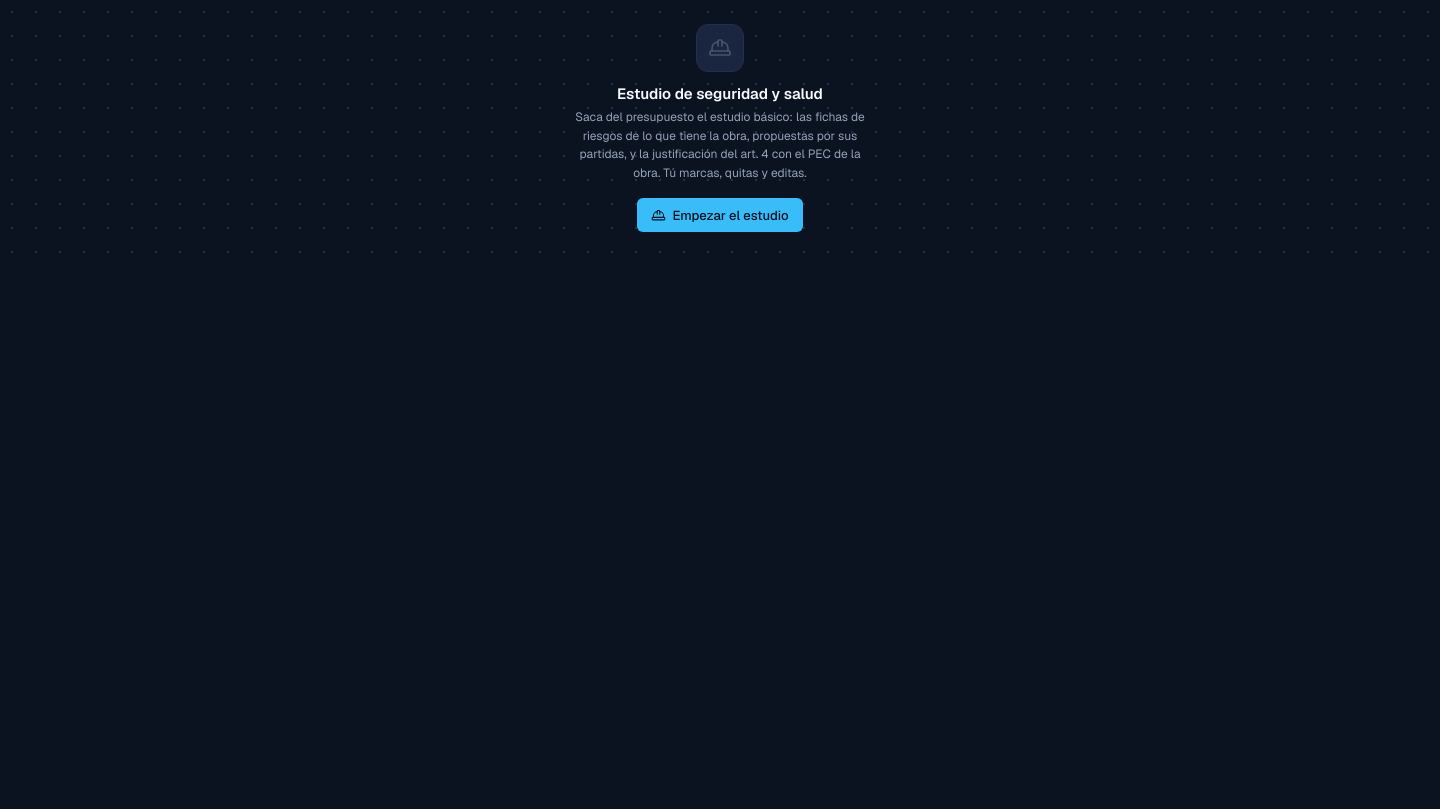
vista Seguridad y salud › empezar: fichas propuestas por las partidas; quitar una y teclear los datos
Click the button "Empezar el estudio": (720, 215) [637,198,803,232]
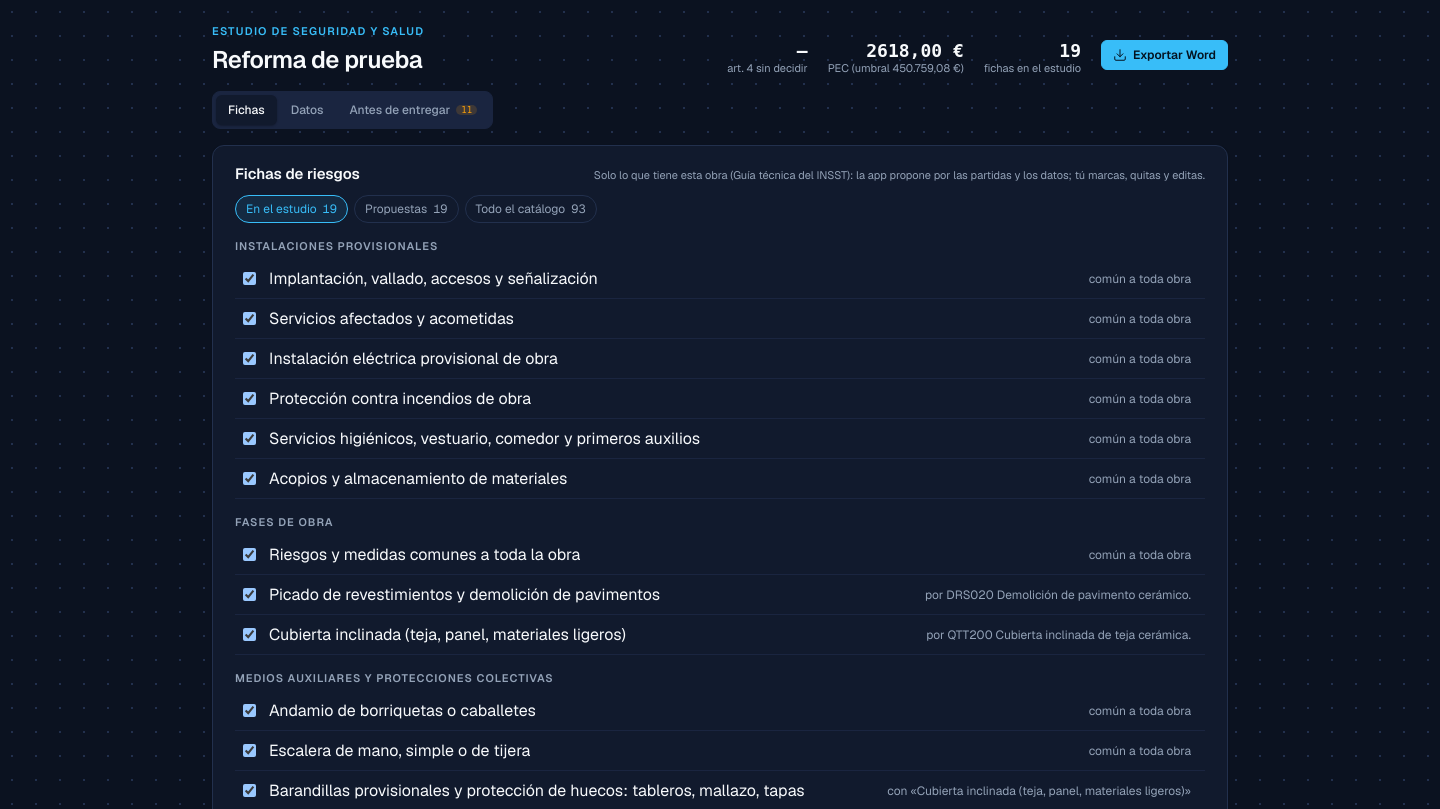
Now the checkbox named "Cubierta inclinada (teja, panel, materiales ligeros) en el e" is checked
Click the checkbox named "Cubierta inclinada (teja, panel, materiales ligeros) en el e": (250, 634) [243,628,256,641]
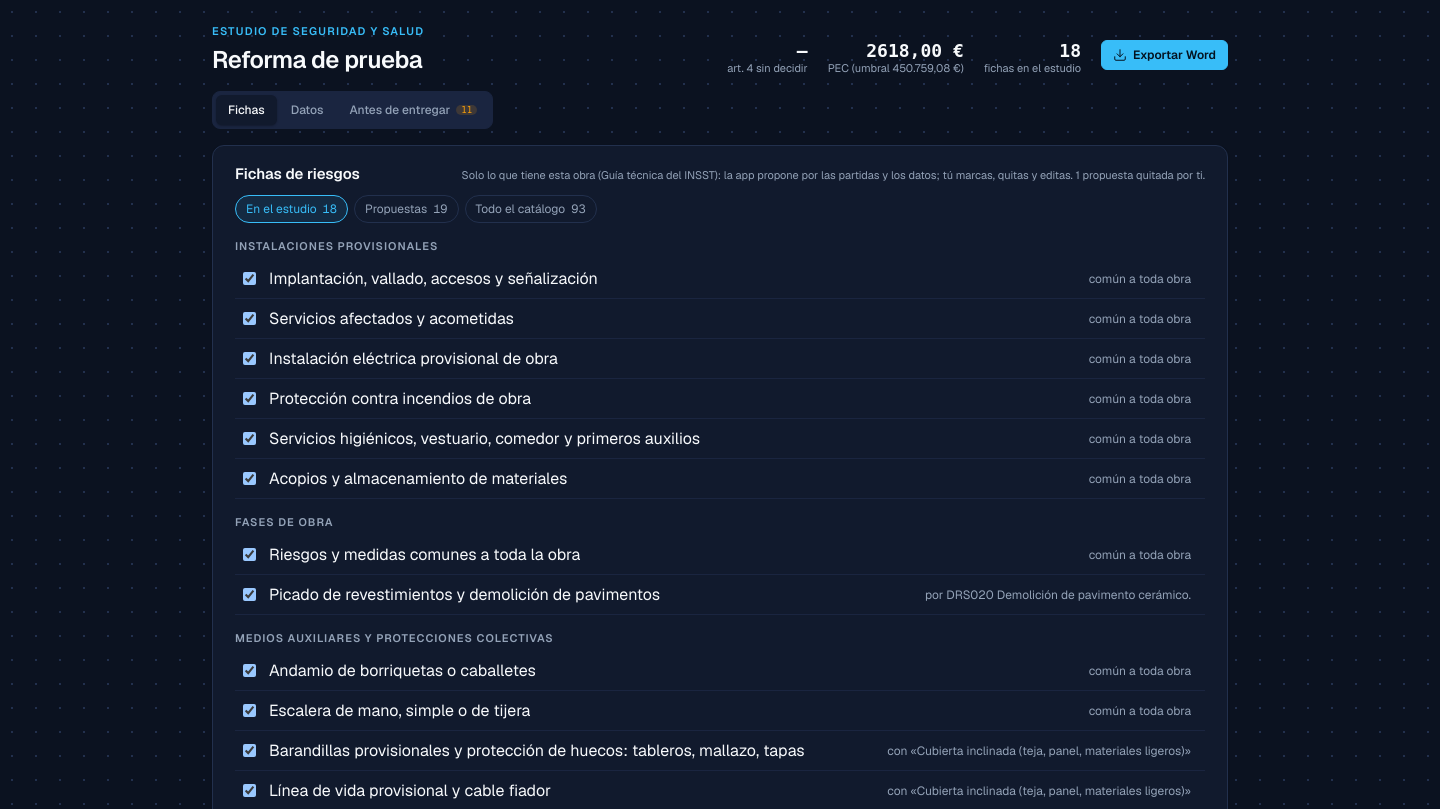
Click the tab "Datos": (307, 110) [279,95,335,125]
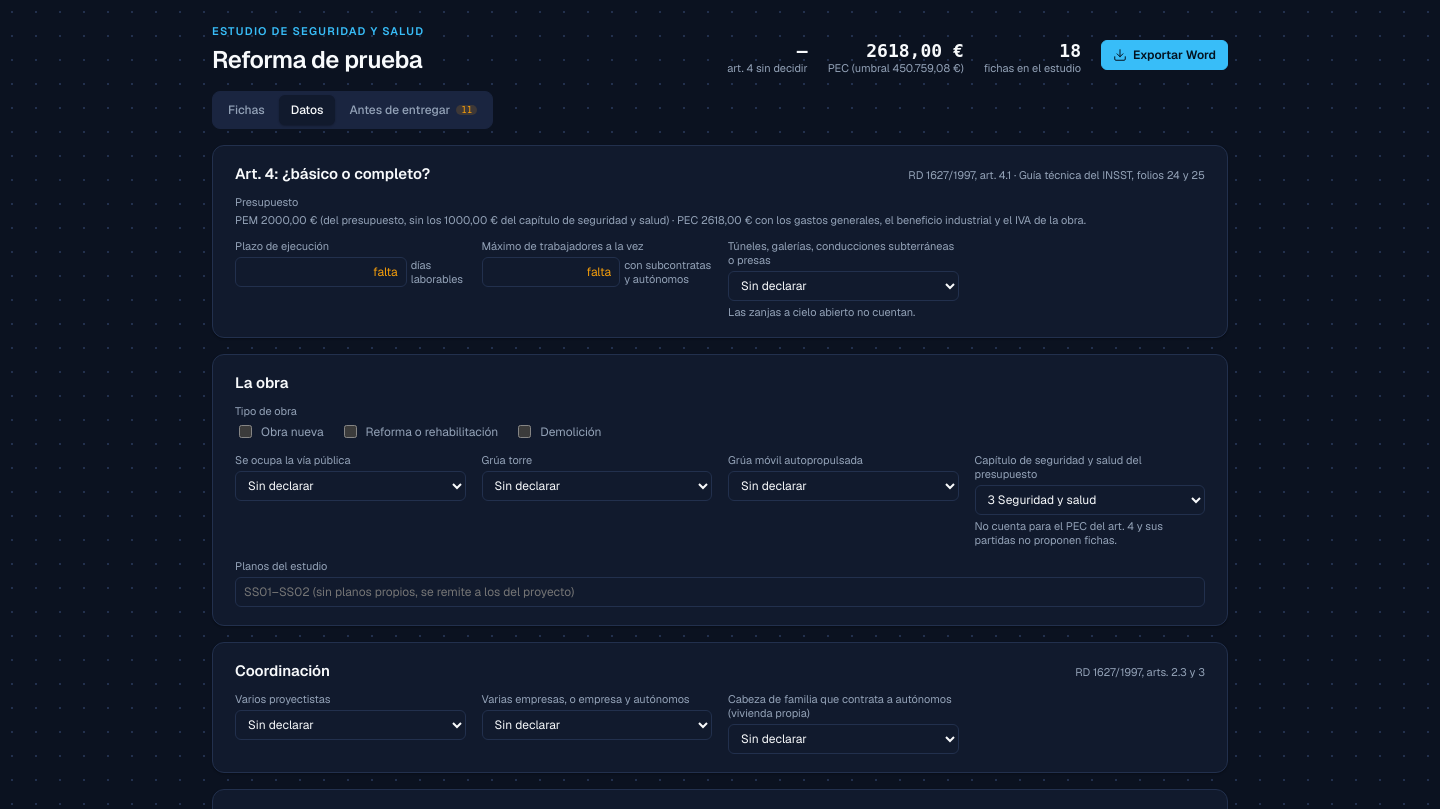
In the field named "Plazo en días laborables": (321, 272) [235,257,407,287], type "60"
Press Enter in the field named "Plazo en días laborables", box [235,257,407,287]
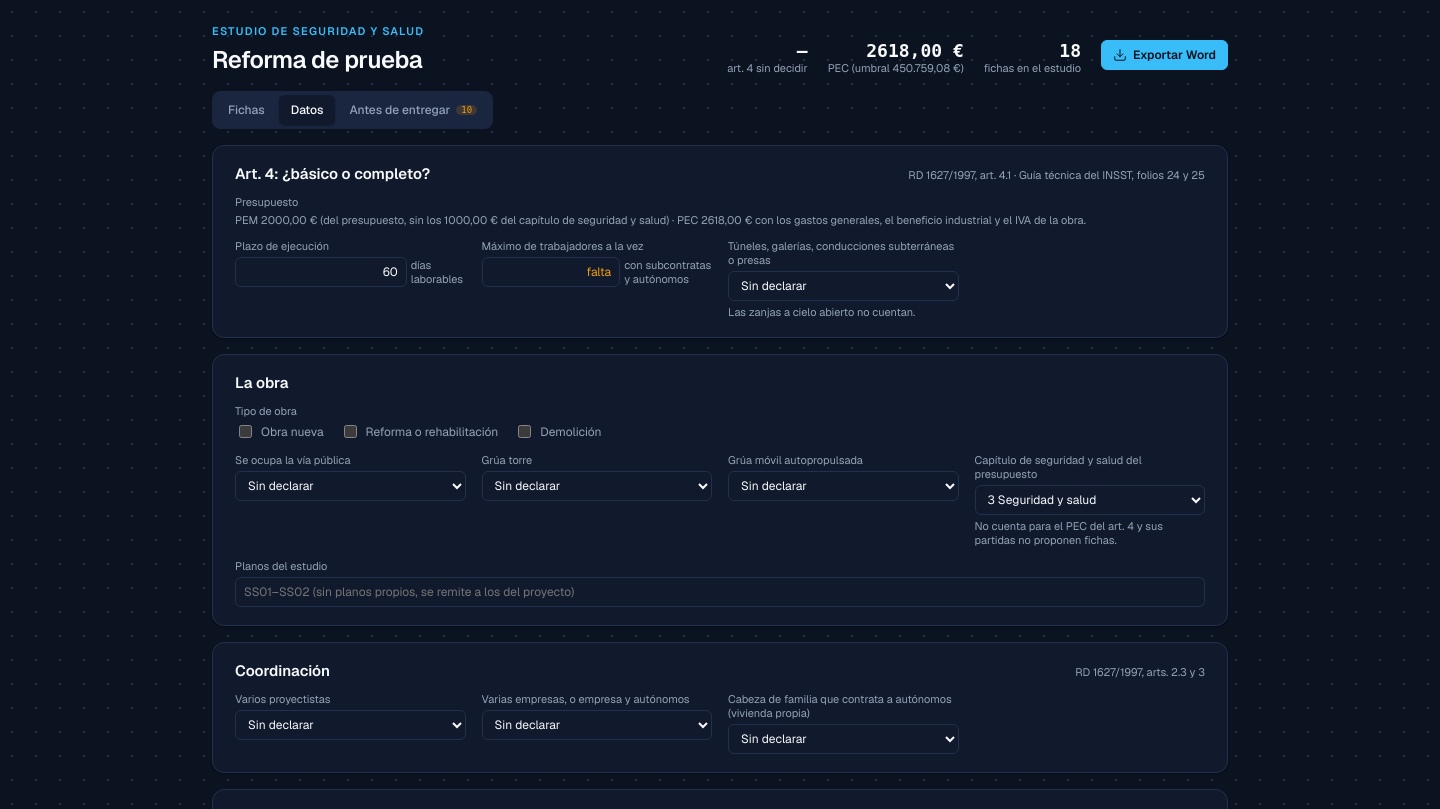
In the field labelled "Máximo de trabajadores a la vez": (551, 272) [482,257,620,287], type "4"
Press Enter in the field labelled "Máximo de trabajadores a la vez", box [482,257,620,287]
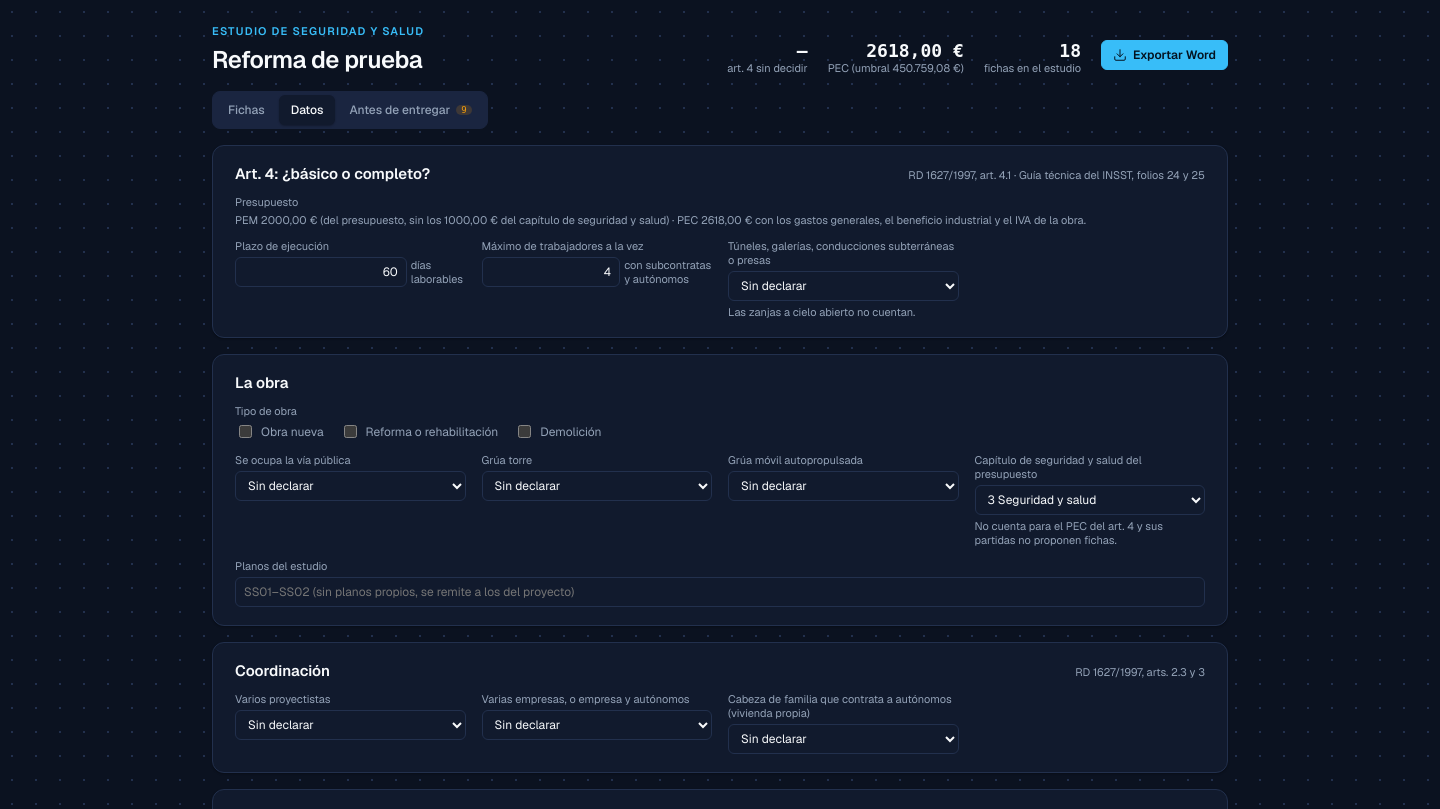
Select "No" in the dropdown labelled "Túneles, galerías": (843, 286) [728,271,958,301]
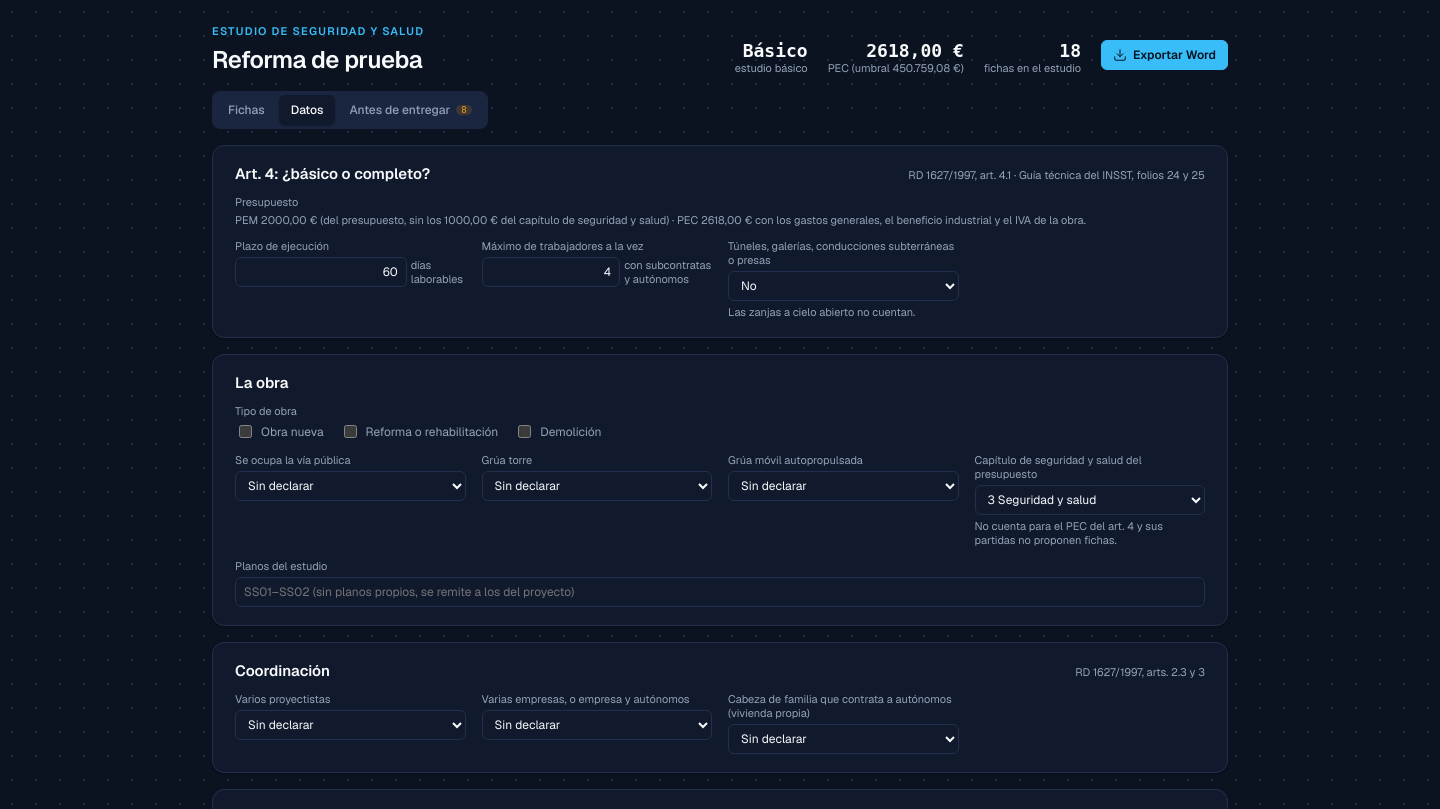
Now the text "Básico" is shown, box [743,40,808,61]
